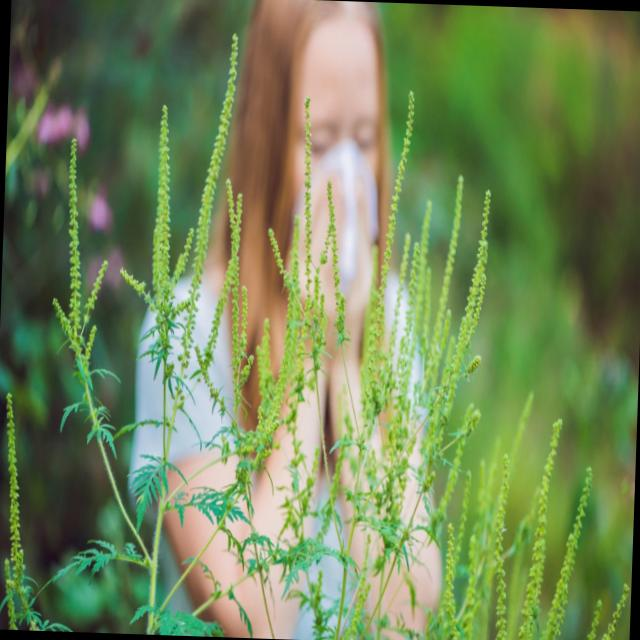ambrosia: (48, 132, 250, 386), (277, 88, 471, 339), (168, 11, 296, 350), (429, 382, 597, 570), (509, 399, 637, 640), (0, 371, 72, 631)
